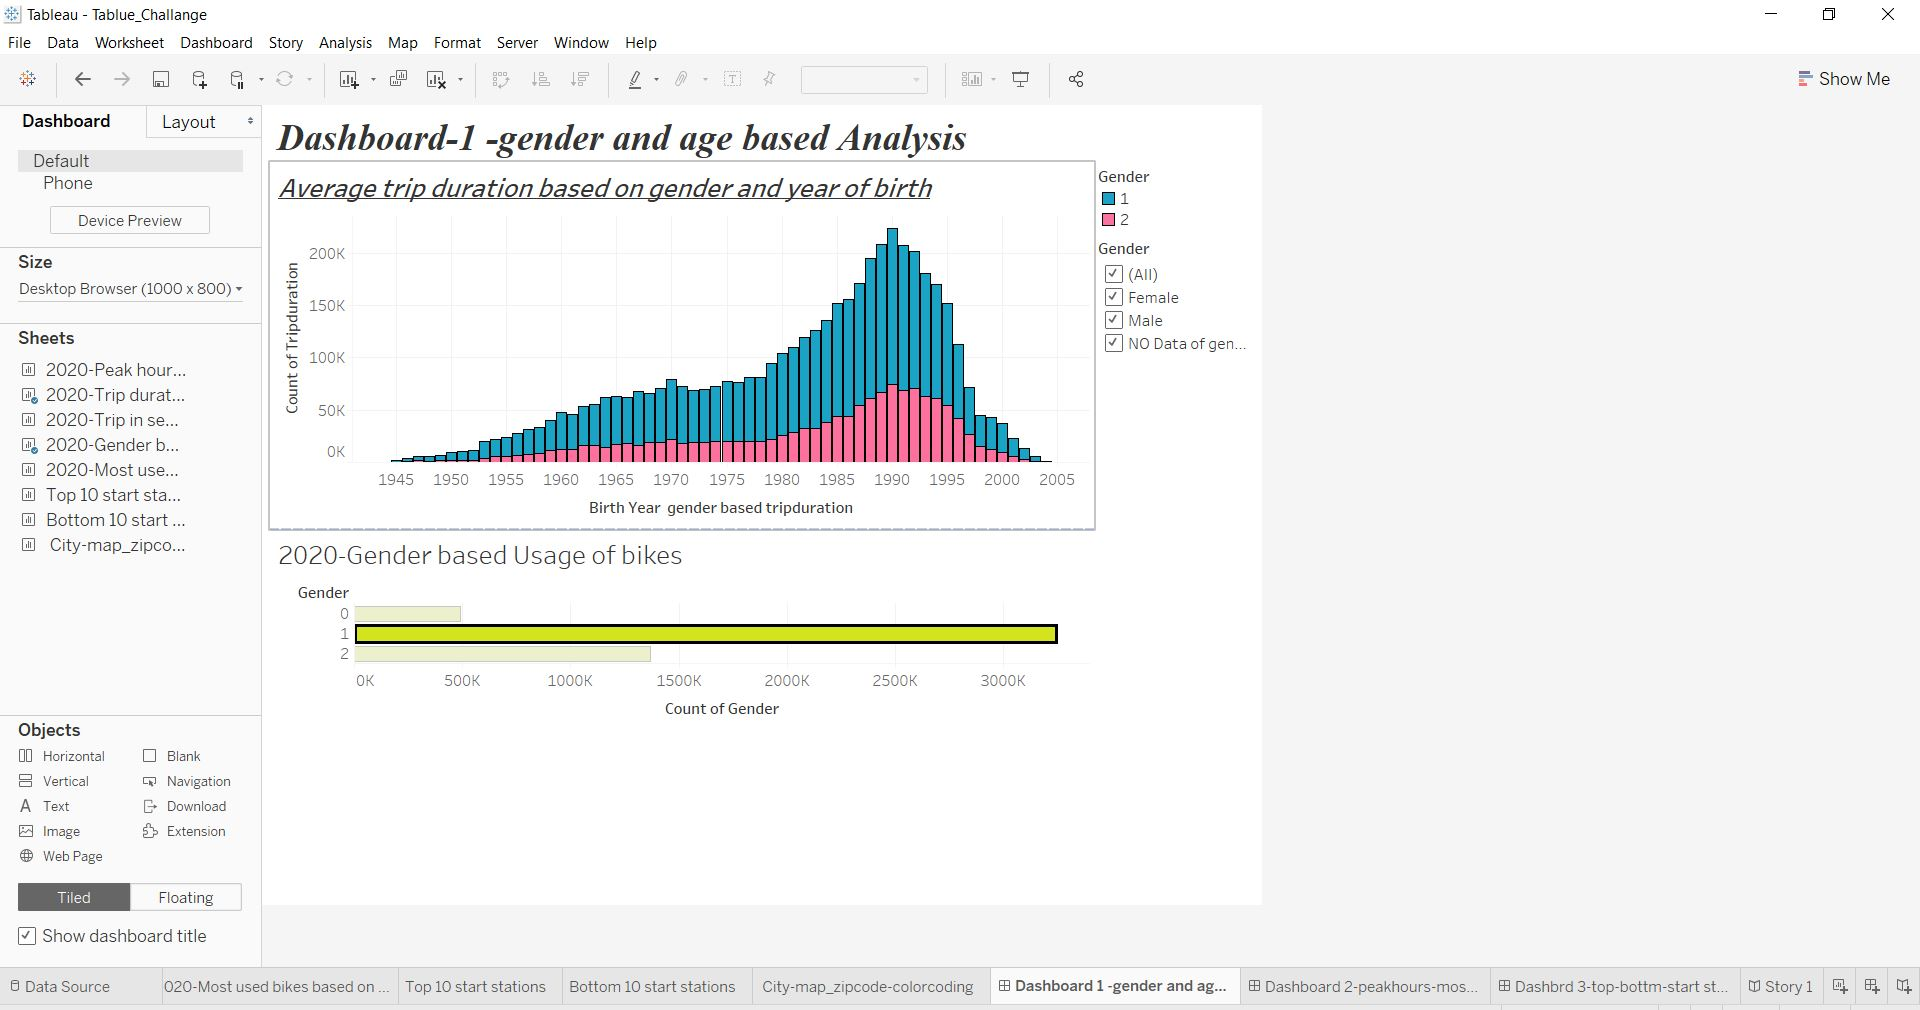

Layout of this report page (visuals, bound fields, positions):
{"tool":"tableau","page":{"name":"Dashboard 1 -gender and age bsed","canvas":[1000,800],"ordinal":0},"visuals":[{"type":"worksheet","box":[0,0,1000,800]},{"type":"worksheet","param":"vert","box":[8,8,984,784]},{"type":"worksheet","box":[8,8,984,49]},{"type":"worksheet","param":"vert","box":[8,57,984,735]},{"type":"worksheet","param":"horz","box":[8,57,984,735]},{"type":"worksheet","box":[8,57,824,735]},{"type":"worksheet","title":"2020-Trip duration based on gender and birth year","mark":"Bar","rows":["tripduration"],"cols":["birth year"],"box":[8,57,824,367.5]},{"type":"worksheet","param":"vert","box":[832,57,160,735]},{"type":"worksheet","title":"2020-Trip duration based on gender and birth year","mark":"Bar","rows":["tripduration"],"cols":["birth year"],"param":"[federated.0ddsn1i1cwlo6c1bdmey20t8cij2].[none:gender:nk]","box":[832,57,160,72]},{"type":"worksheet","title":"2020-Gender based Usage of bikes","mark":"Automatic","rows":["gender"],"cols":["gender"],"param":"[federated.0ddsn1i1cwlo6c1bdmey20t8cij2].[none:gender:nk]","box":[832,129,160,128]},{"type":"worksheet","title":"2020-Gender based Usage of bikes","mark":"Automatic","rows":["gender"],"cols":["gender"],"box":[8,424.5,824,367.5]}]}

Visuals, with their boxes on the page's 1000x800 design canvas (x1, y1, x2, y2). These are canvas units, not pixel positions in the 1920x1010 screenshot, which may show the page scaled, cropped or inside an application window:
worksheet: [x1=0, y1=0, x2=1000, y2=800]
worksheet: [x1=8, y1=8, x2=992, y2=792]
worksheet: [x1=8, y1=8, x2=992, y2=57]
worksheet: [x1=8, y1=57, x2=992, y2=792]
worksheet: [x1=8, y1=57, x2=992, y2=792]
worksheet: [x1=8, y1=57, x2=832, y2=792]
"2020-Trip duration based on gender and birth year" worksheet (Bar marks): [x1=8, y1=57, x2=832, y2=424]
worksheet: [x1=832, y1=57, x2=992, y2=792]
"2020-Trip duration based on gender and birth year" worksheet (Bar marks): [x1=832, y1=57, x2=992, y2=129]
"2020-Gender based Usage of bikes" worksheet: [x1=832, y1=129, x2=992, y2=257]
"2020-Gender based Usage of bikes" worksheet: [x1=8, y1=424, x2=832, y2=792]
